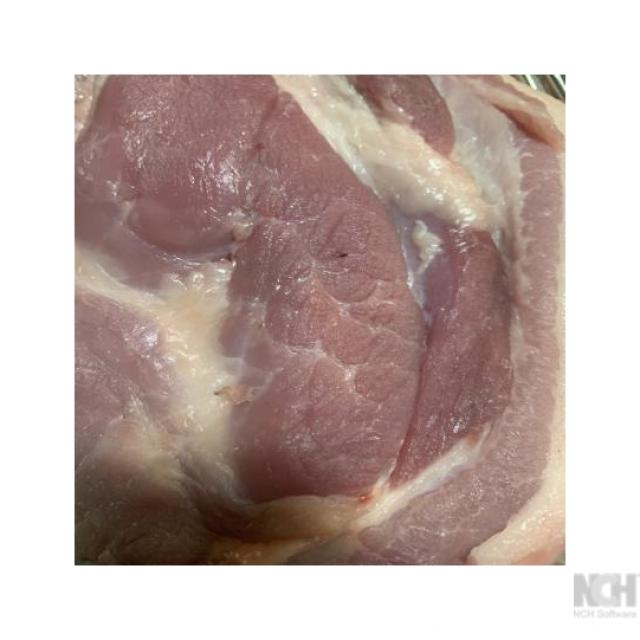rotten meat: (50, 51, 578, 571)
